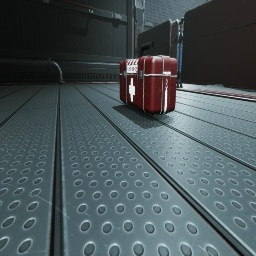FirstAidBox ,: (119, 41, 178, 116)
